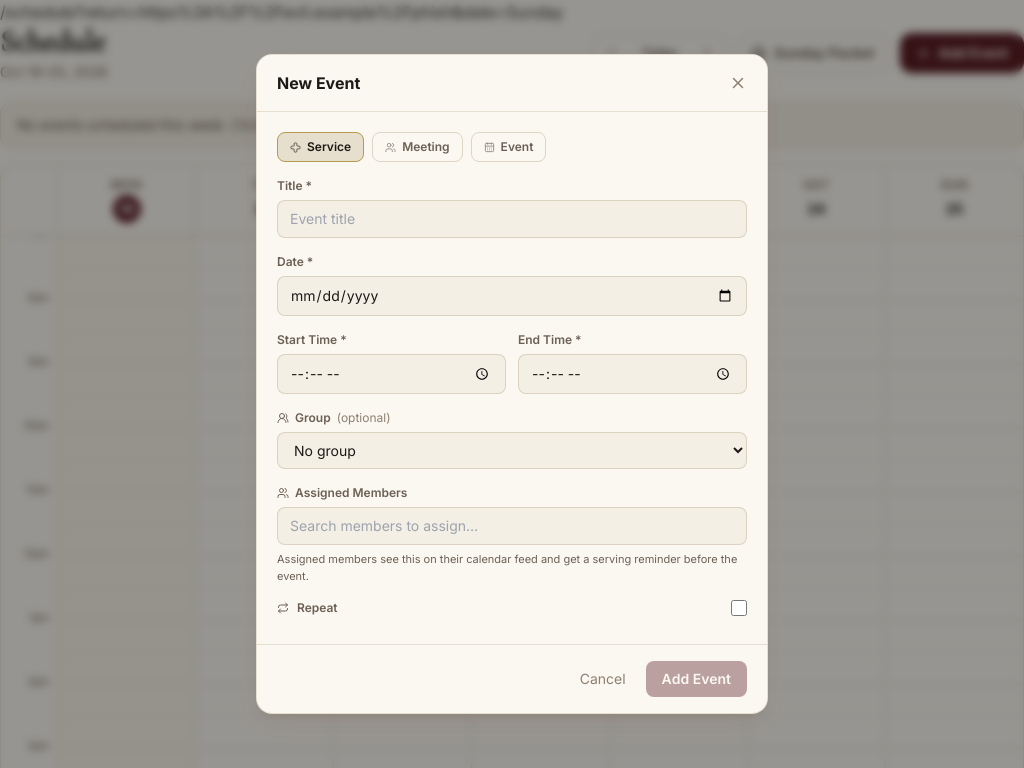
it: Schedule create returns to the intention › rejects a return value that is not the intention token, and a date that is not a day
The image size is (1024, 768).
Expected: the heading "New Event" is shown, [277,71,360,95]
Expected: the date field is empty, [277,276,747,316]
Step 1. Type "Parish council" into the field labelled "Event title" → (512, 219), box [277,200,747,238]
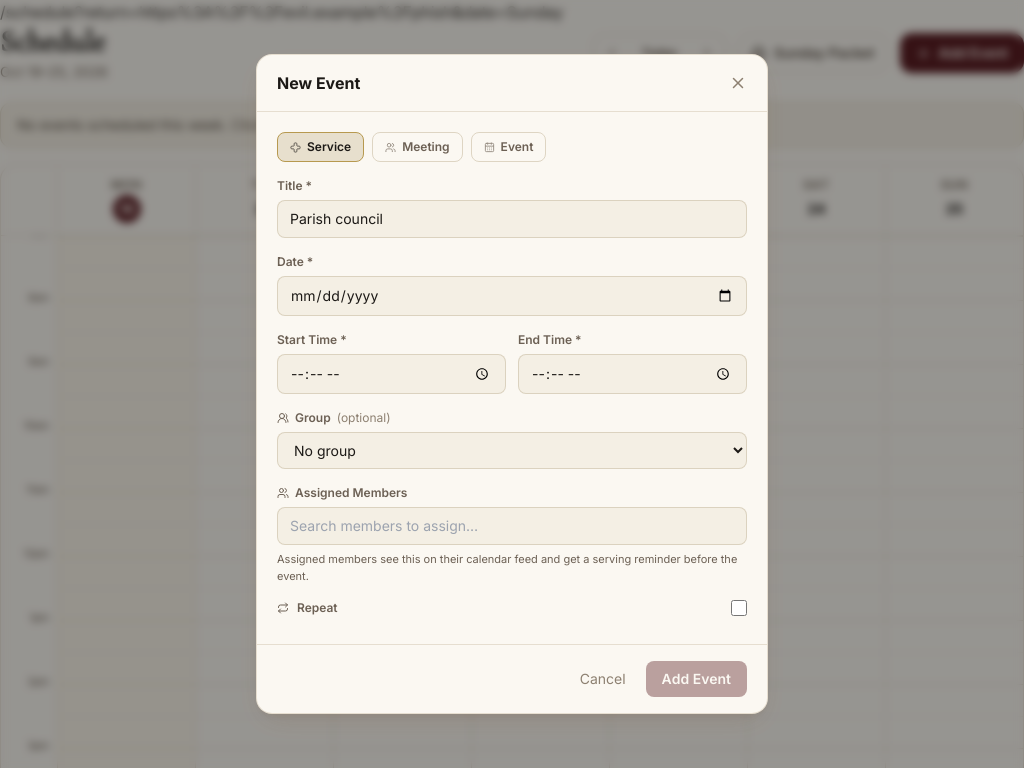
Step 2. Type "2026-10-04" into the date field → (512, 296), box [277,276,747,316]
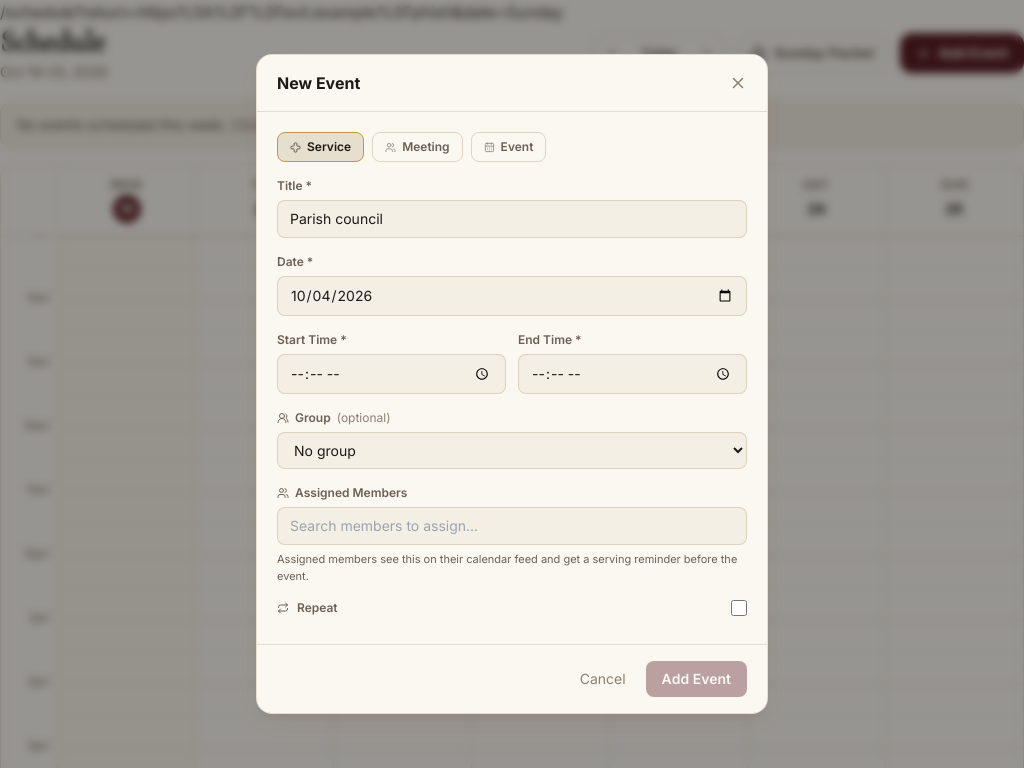
Step 3. Type "10:00" into the time field below "Start Time" → (392, 374), box [277,354,506,394]
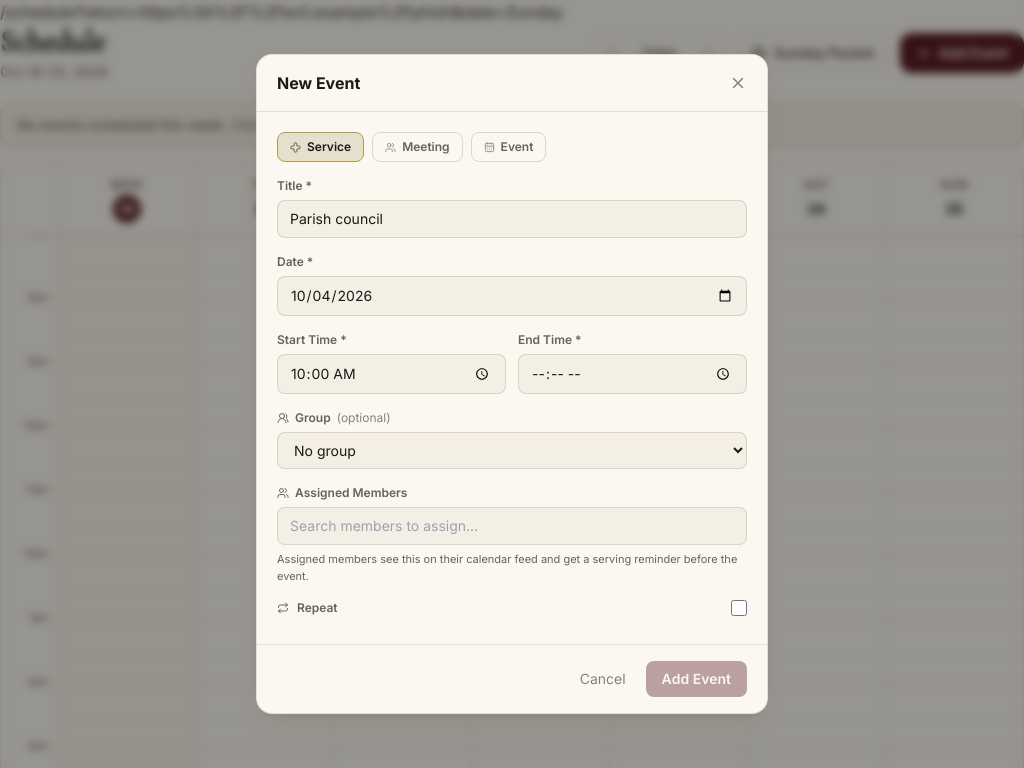
Step 4. Type "11:00" into the time field below "End Time" → (632, 374), box [518,354,747,394]
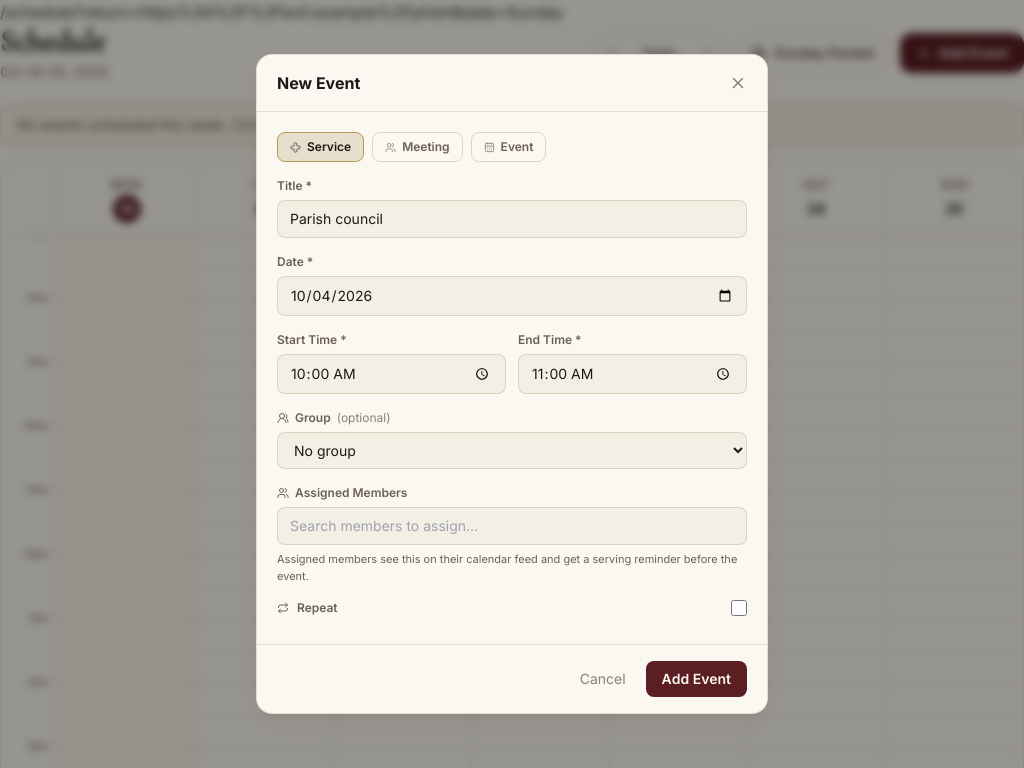
Step 5. Click the button "Add Event" → click(696, 679), box [646,661,747,697]
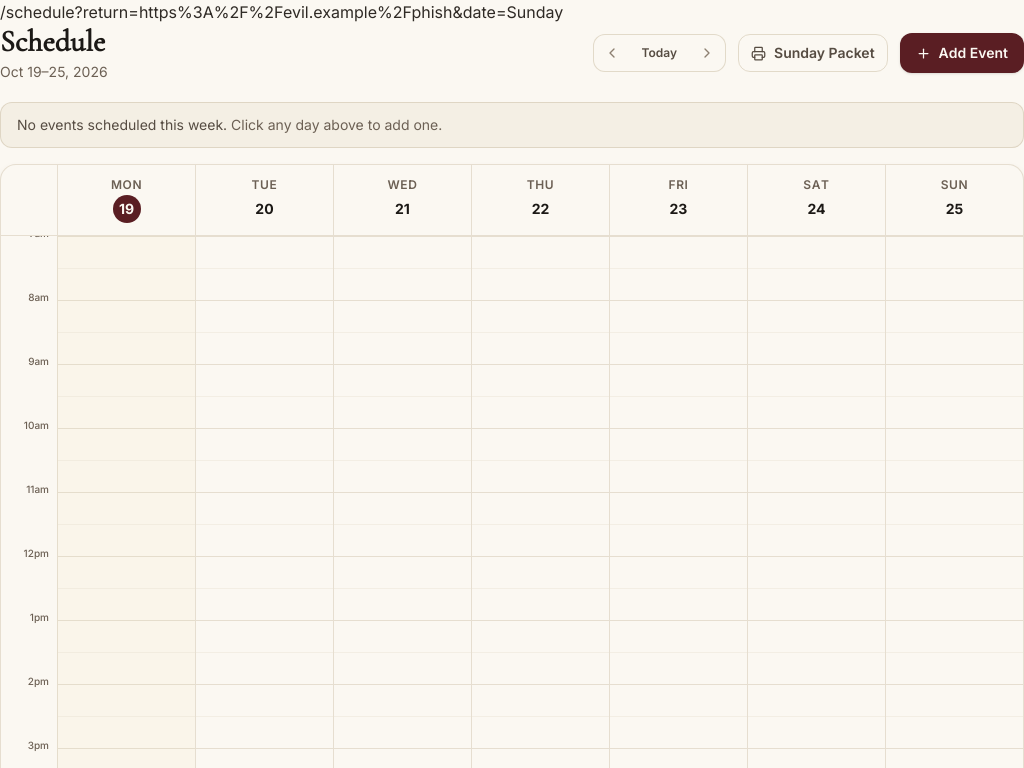
Expected: the heading "New Event" is gone
